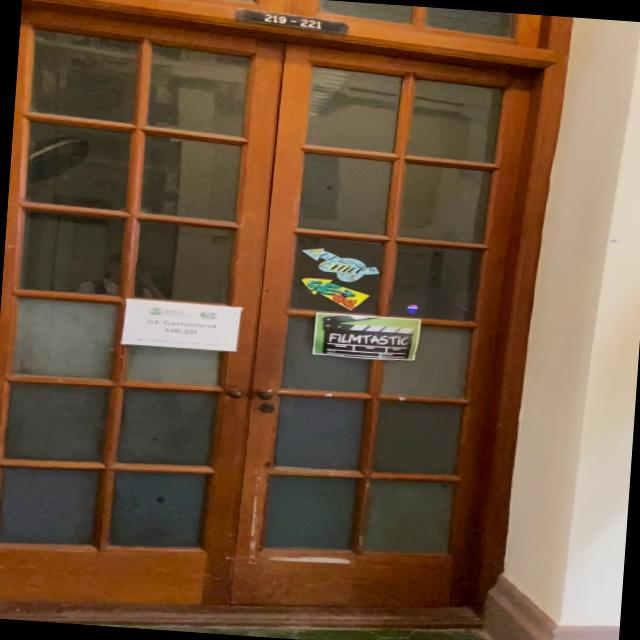room221: (231, 7, 349, 36)
